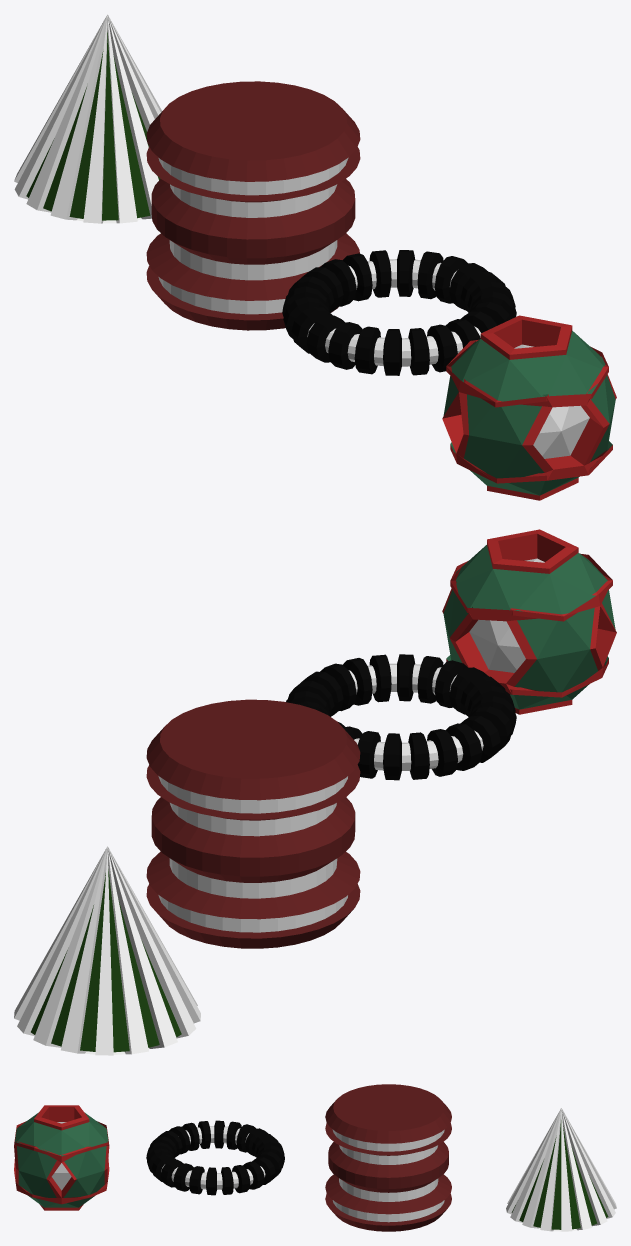
Rendered from lamps.fbx.
3 views of the same model, one above another, from view 1: azimuth 30°, elevation 25°; view 2: azimuth 150°, elevation 25°; view 3: azimuth 270°, elevation 25° (orthographic). The views are drawn at different scales.
Visible parts, largest first — view 1: Cylinder, Icosphere, Cone, Torus; view 2: Cylinder, Icosphere, Cone, Torus; view 3: Cylinder, Icosphere, Cone, Torus.
Boxes of the visible parts, <box> form: Cylinder: <box>146,81,360,330</box>; Icosphere: <box>442,315,616,500</box>; Cone: <box>14,14,161,223</box>; Torus: <box>282,250,516,375</box>; Cylinder: <box>146,699,360,948</box>; Icosphere: <box>442,529,616,714</box>; Cone: <box>14,846,200,1055</box>; Torus: <box>286,654,516,780</box>; Cylinder: <box>325,1084,451,1231</box>; Icosphere: <box>14,1105,109,1210</box>; Cone: <box>506,1108,616,1231</box>; Torus: <box>146,1120,284,1195</box>.
Bounding box in the file's own units: 250 × 211 × 1086.
